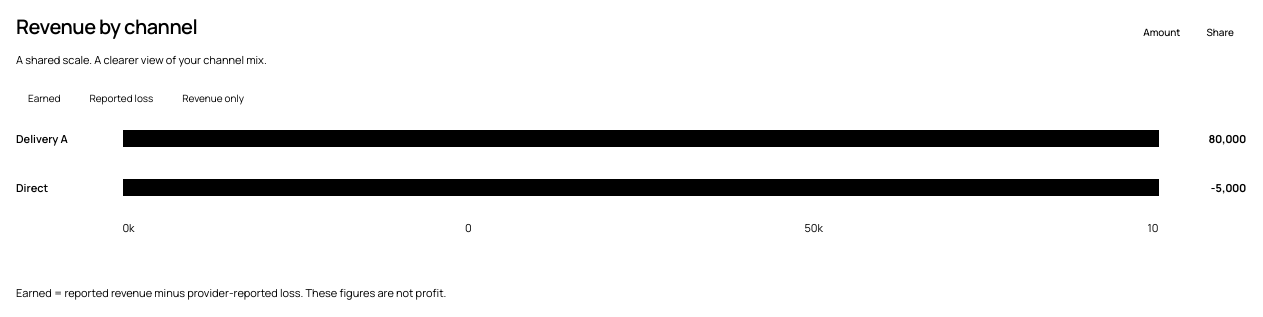
Test: ChannelPortfolioChart › keeps signed adjustments out of Share while Amount stays signed
The image size is (1263, 317).
Expected: the text "-5,000" is shown, [1211,180,1246,195]
Click the radio button with aria-label "Show shares" at (1220, 32), box [1198,16,1243,48]
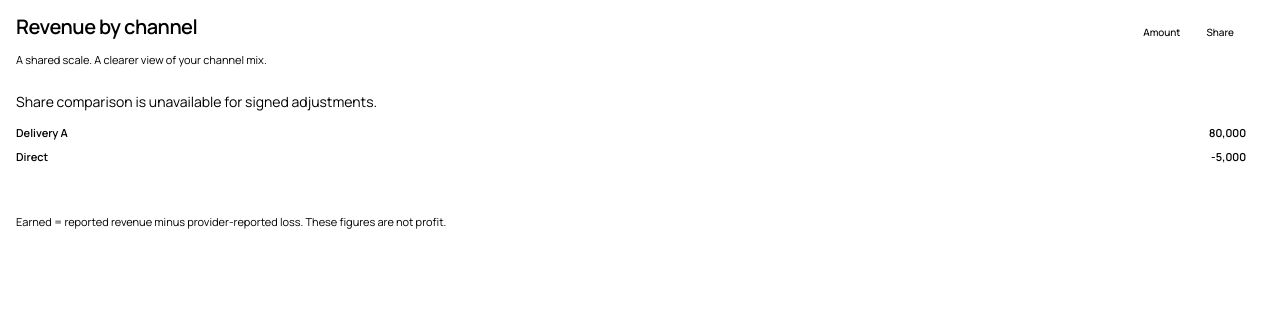
Result: the text "Share comparison is unavailable for signed adjustments." is shown at [16,92,377,111]
